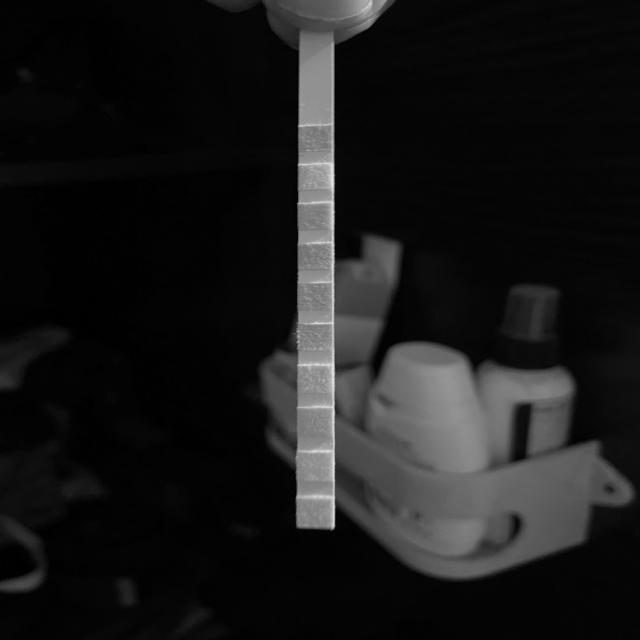Bilirubin: (298, 165, 333, 189)
Blood: (298, 283, 333, 309)
Glucose: (298, 126, 332, 151)
Ketone: (298, 203, 333, 230)
Leukocytes: (298, 499, 334, 528)
Nitrite: (298, 452, 334, 480)
Protein: (298, 365, 333, 393)
SpGravity: (298, 243, 332, 269)
Urobilinogen: (297, 408, 333, 436)
background: (0, 0, 640, 640)
pH: (298, 324, 333, 350)
strip: (297, 41, 334, 529)
